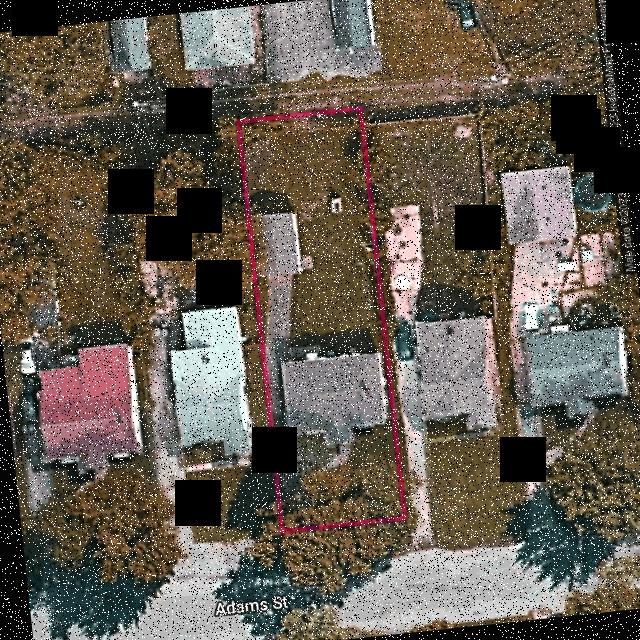Driveway: (263, 274, 293, 435), (321, 444, 349, 470)
House: (281, 352, 387, 445)
Other: (261, 211, 311, 276)
